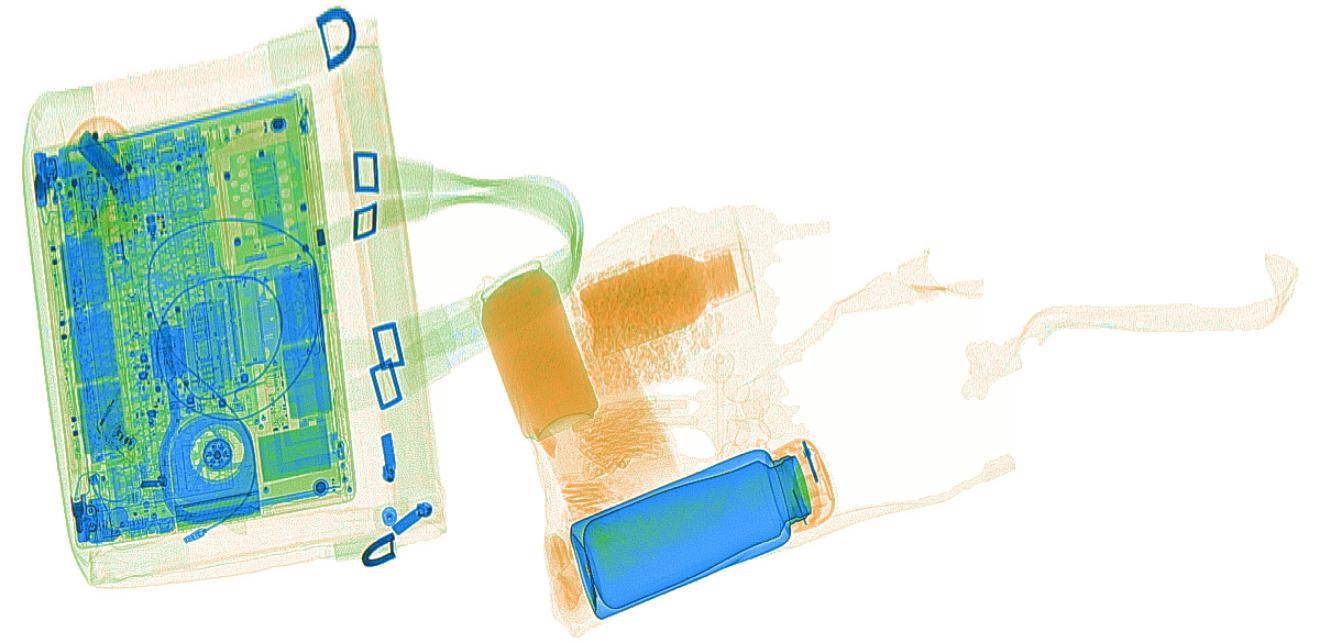battery: (75, 129, 130, 192)
